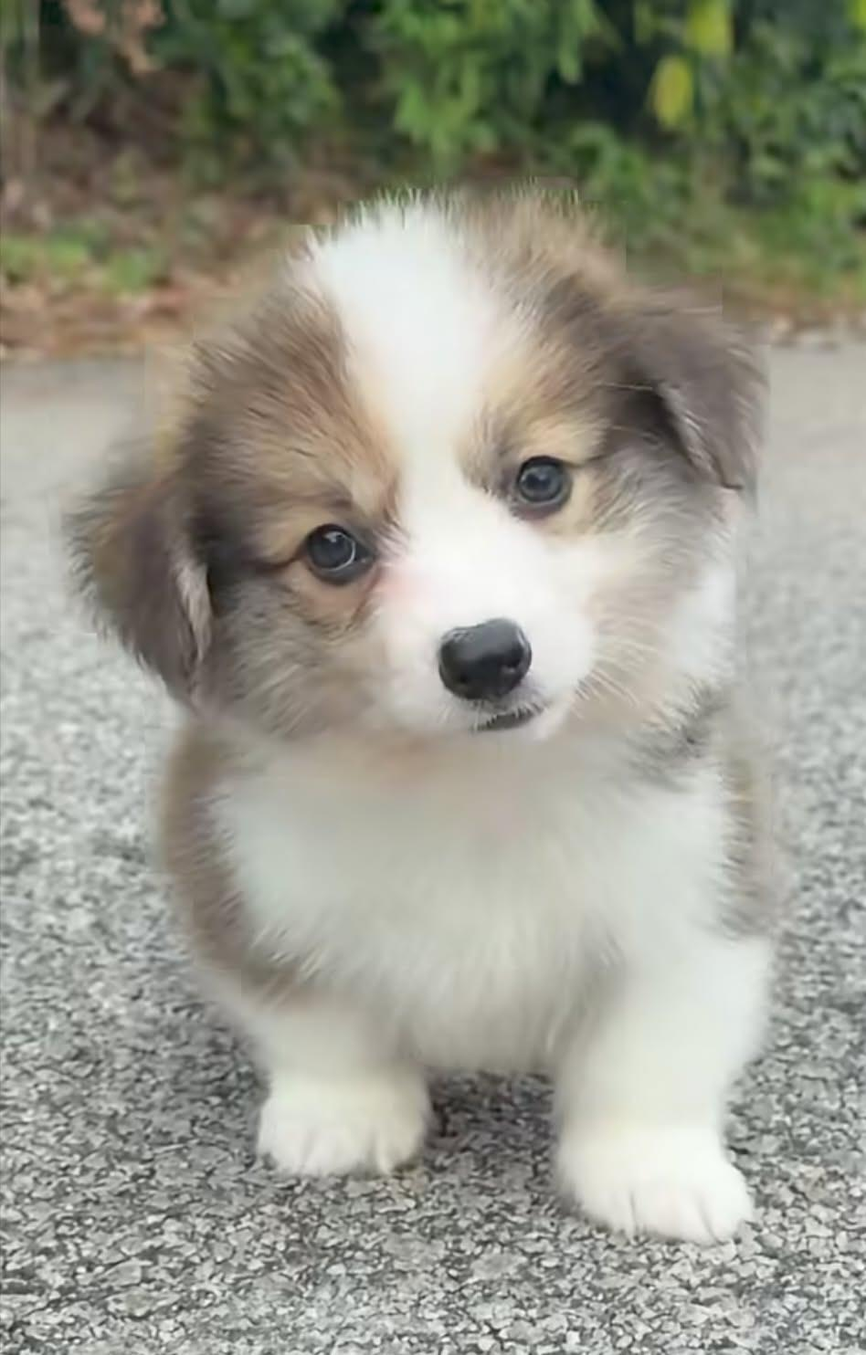puppy-dog: (52, 177, 792, 1250)
